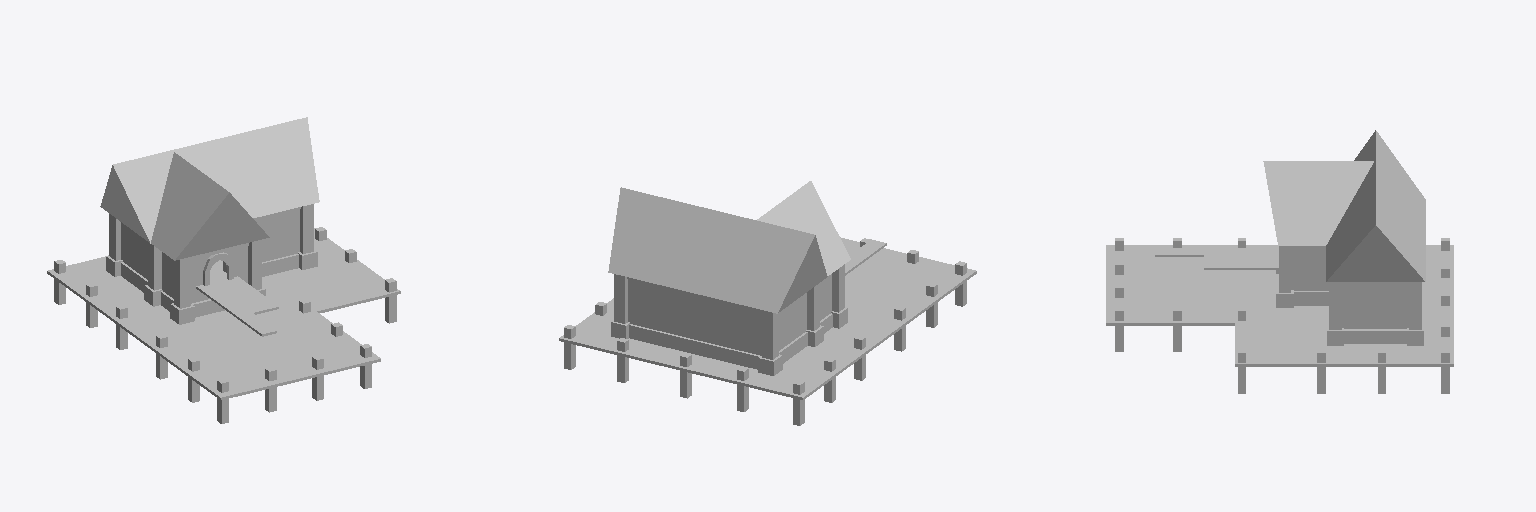
File: tavern 1.obj
3 renders of one model, left to right at view 1: azimuth 30°, elevation 25°; view 2: azimuth 150°, elevation 25°; view 3: azimuth 270°, elevation 25°, orthographic.
Visible parts, largest first — view 1: Plane.002_Plane.003, Cube_Cube.032, Cube.015_Cube.037, Cube.022_Cube.026, Plane_Plane.001, Plane.003_Plane.004, Plane.001_Plane.002, Cube.008_Cube.029, Cube.009_Cube.030, Cube.007_Cube.028, Cube.013_Cube.035; view 2: Cube_Cube.032, Plane.002_Plane.003, Plane_Plane.001, Cube.022_Cube.026, Cube.015_Cube.037, Plane.001_Plane.002, Cube.010_Cube.031, Cube.006_Cube.027, Plane.003_Plane.004, Cube.013_Cube.035, Cube.008_Cube.029; view 3: Plane.002_Plane.003, Cube_Cube.032, Cube.015_Cube.037, Plane_Plane.001, Cube.022_Cube.026, Plane.003_Plane.004, Plane.001_Plane.002, Cube.009_Cube.030, Cube.006_Cube.027, Cube.007_Cube.028.
Part boxes in pixels (x1,y1,x2,y2): Plane.002_Plane.003: (47, 228, 400, 399); Cube_Cube.032: (100, 117, 319, 243); Cube.015_Cube.037: (151, 152, 269, 260); Cube.022_Cube.026: (54, 227, 396, 423); Plane_Plane.001: (121, 207, 300, 303); Plane.003_Plane.004: (196, 276, 278, 336); Plane.001_Plane.002: (121, 254, 298, 317); Cube.008_Cube.029: (174, 257, 190, 308); Cube.009_Cube.030: (300, 204, 313, 253); Cube.007_Cube.028: (248, 240, 261, 289); Cube.013_Cube.035: (148, 242, 161, 290); Cube_Cube.032: (608, 187, 827, 313); Plane.002_Plane.003: (559, 237, 976, 399); Plane_Plane.001: (627, 274, 831, 355); Cube.022_Cube.026: (564, 238, 966, 425); Cube.015_Cube.037: (757, 181, 850, 275); Plane.001_Plane.002: (629, 313, 832, 369); Cube.010_Cube.031: (762, 310, 778, 359); Cube.006_Cube.027: (614, 274, 627, 323); Plane.003_Plane.004: (845, 239, 886, 275); Cube.013_Cube.035: (807, 283, 819, 330); Cube.008_Cube.029: (832, 264, 844, 312); Plane.002_Plane.003: (1106, 245, 1453, 366); Cube_Cube.032: (1326, 130, 1425, 281); Cube.015_Cube.037: (1263, 161, 1373, 245); Plane_Plane.001: (1291, 246, 1408, 328); Cube.022_Cube.026: (1115, 238, 1449, 393); Plane.003_Plane.004: (1155, 248, 1278, 269); Plane.001_Plane.002: (1294, 291, 1406, 343); Cube.009_Cube.030: (1329, 282, 1341, 329); Cube.006_Cube.027: (1409, 282, 1421, 329); Cube.007_Cube.028: (1279, 246, 1290, 292).
Size of the model in its own units: 7.13 by 4.44 by 8.79.